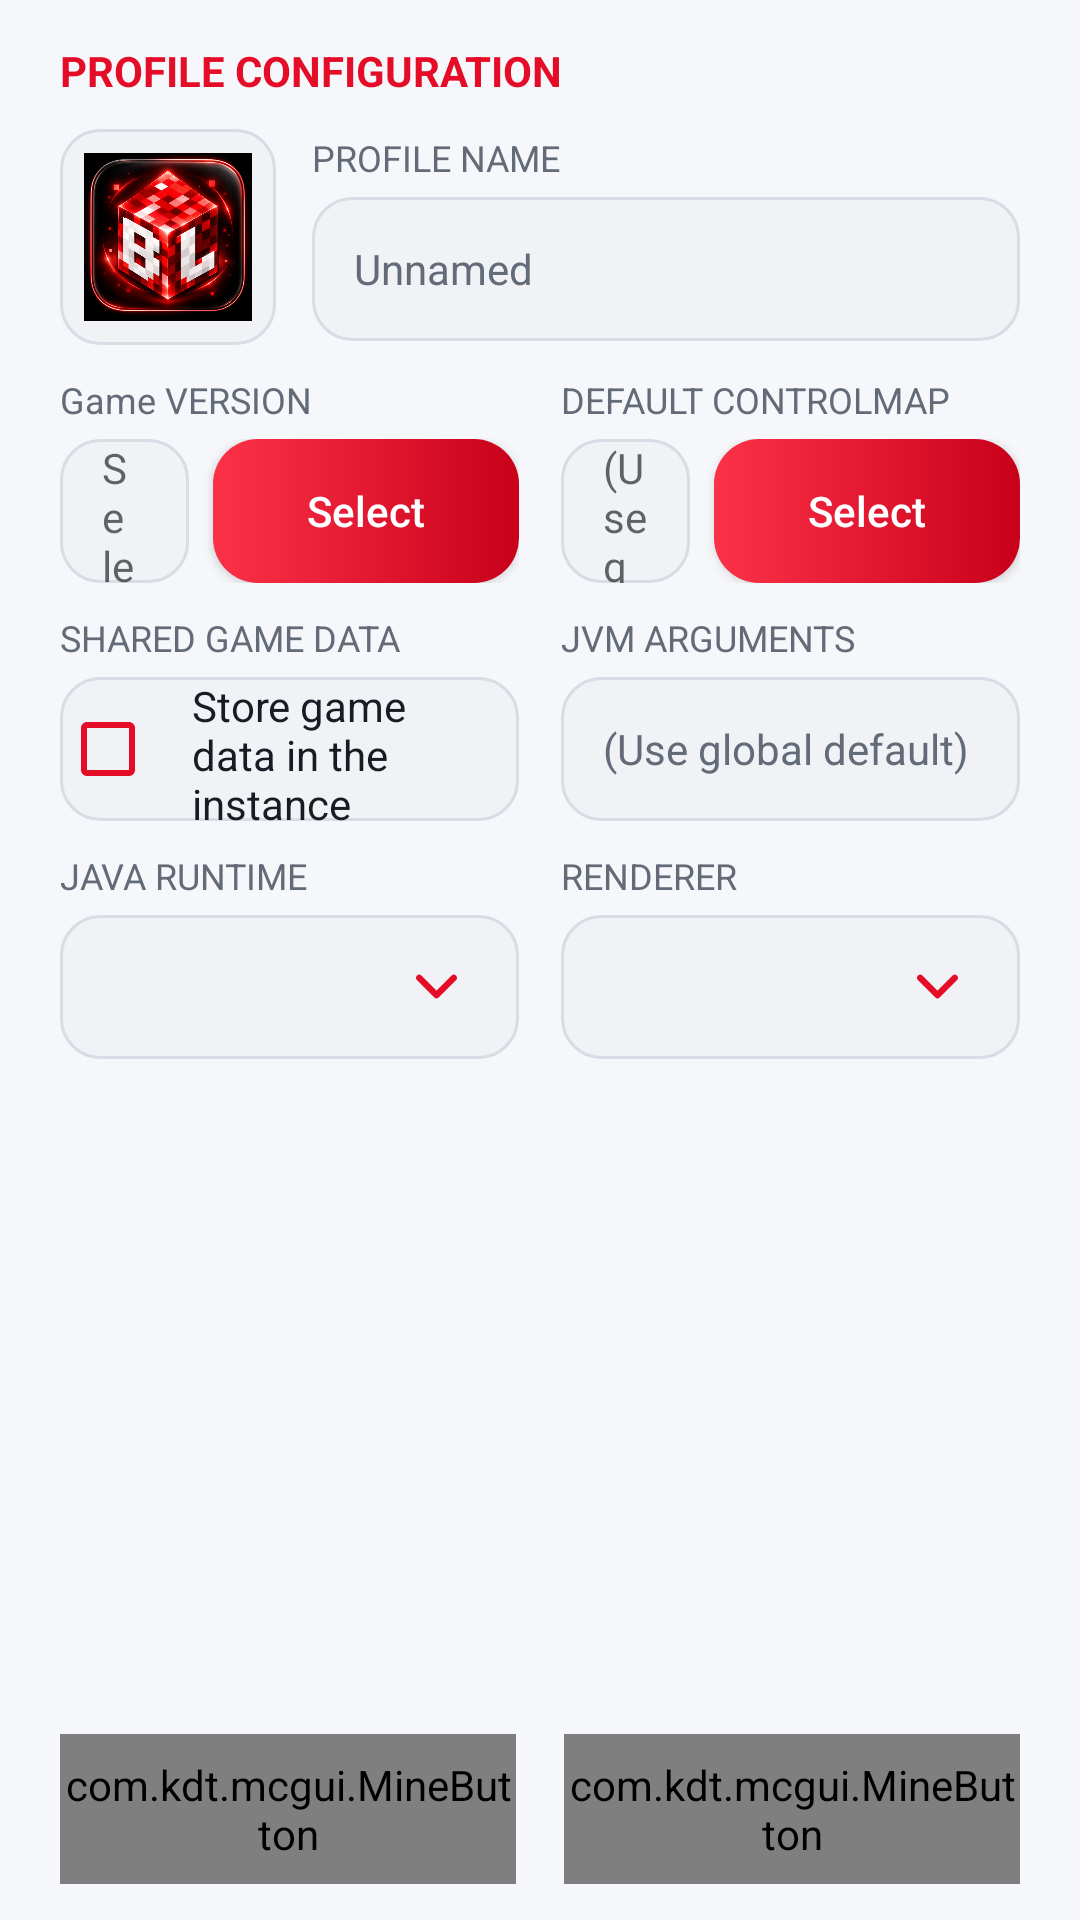

Where icons sit on this 1080×1920 app screen, as (x1, y1, x2, y2):
brix polish chevron: (416, 974, 457, 999), (917, 974, 958, 999)
